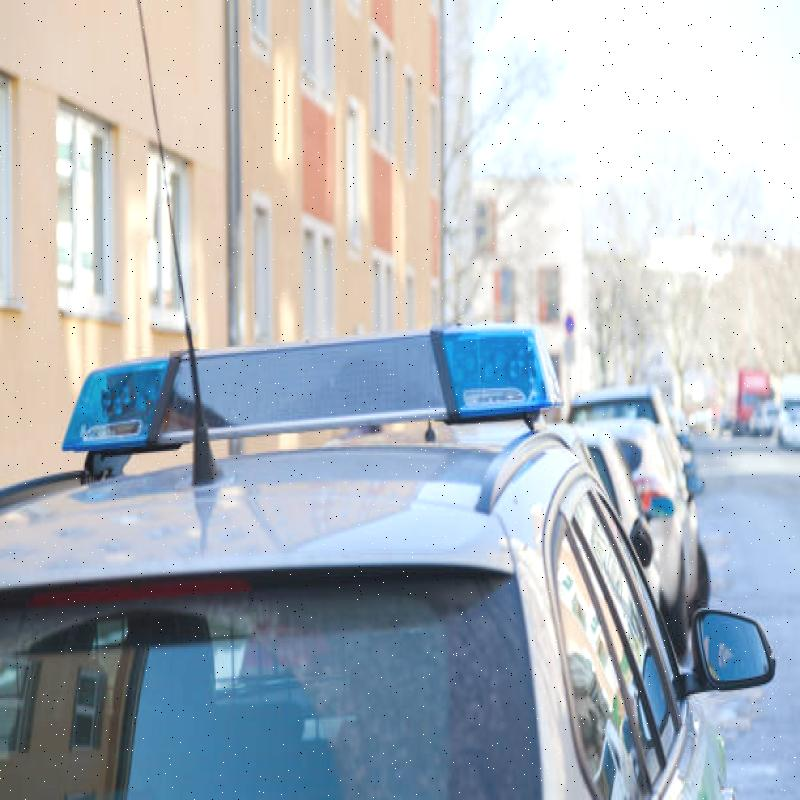AmbulanceSiren: (55, 300, 558, 494)
